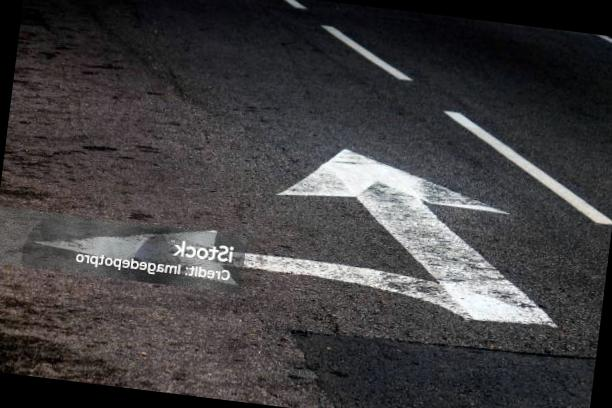faded_road_lines: (17, 106, 567, 324)
